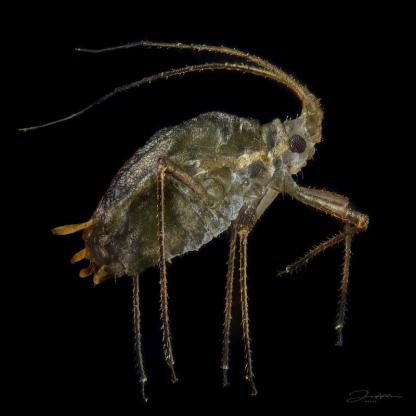aphid: (7, 33, 384, 393)
